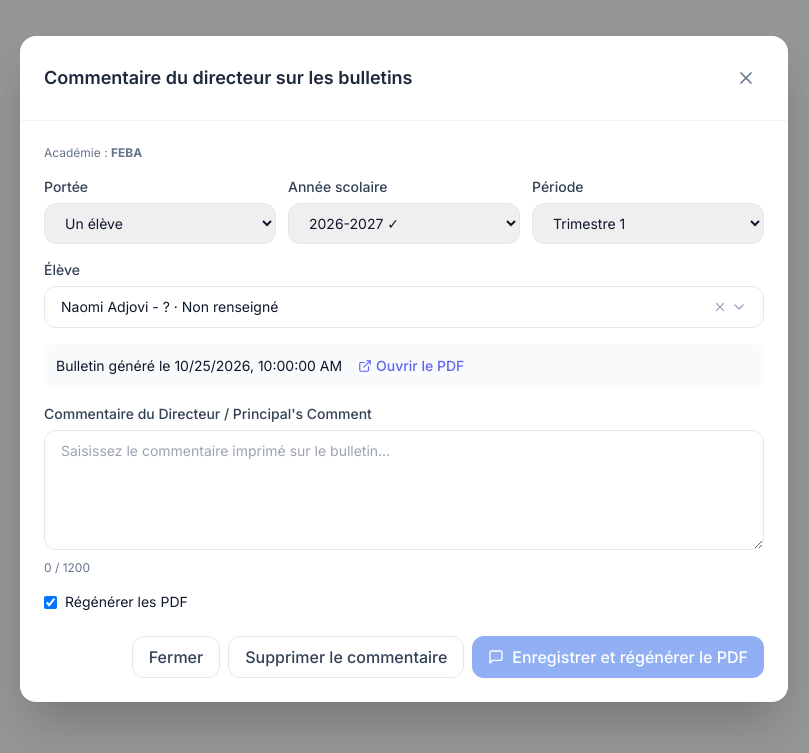
Test case: commentaire d'un élève › signale un échec de régénération au lieu d'annoncer une réussite
The image size is (809, 753).
In the text box labelled "Commentaire du Directeur / Principal's Comment": (404, 490) [44,430,764,550], type "X"
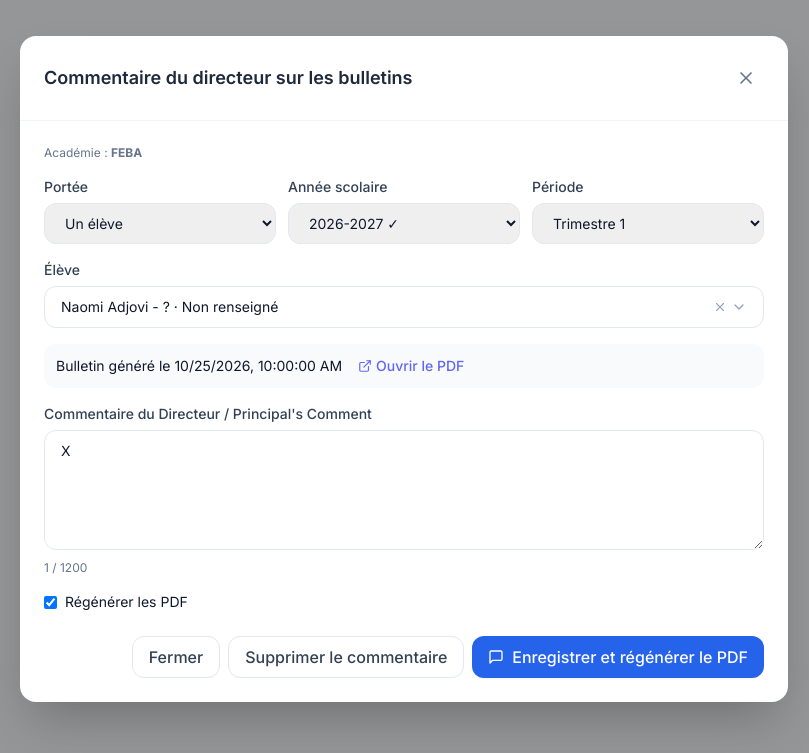
Click the button "Enregistrer et régénérer le PDF": (618, 657) [472,636,764,678]
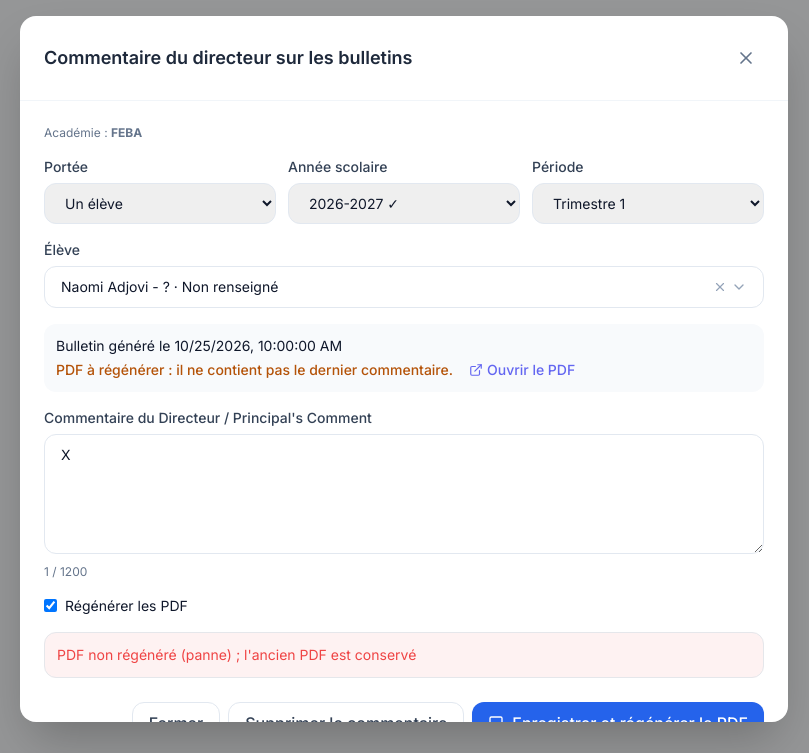
Now the message shows "ancien PDF est conservé", box [57,646,416,663]
Now the text "PDF à régénérer : il ne contient pas le dernier commentaire." is shown, box [56,360,453,380]
